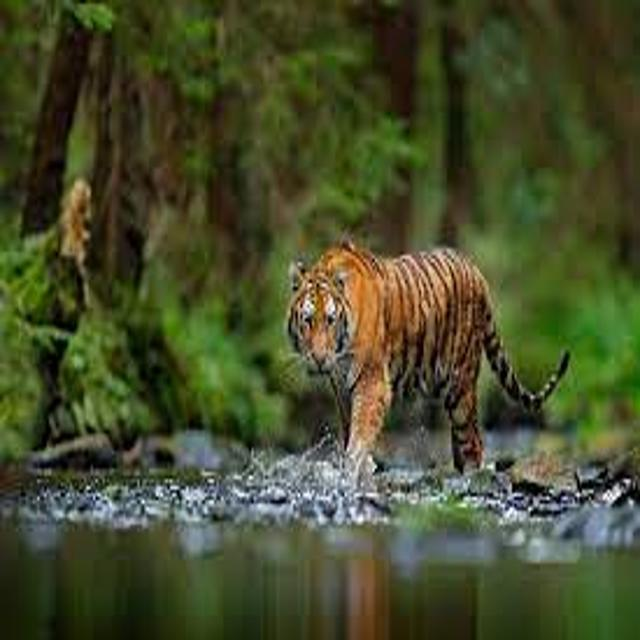tiger: (256, 215, 599, 527)
